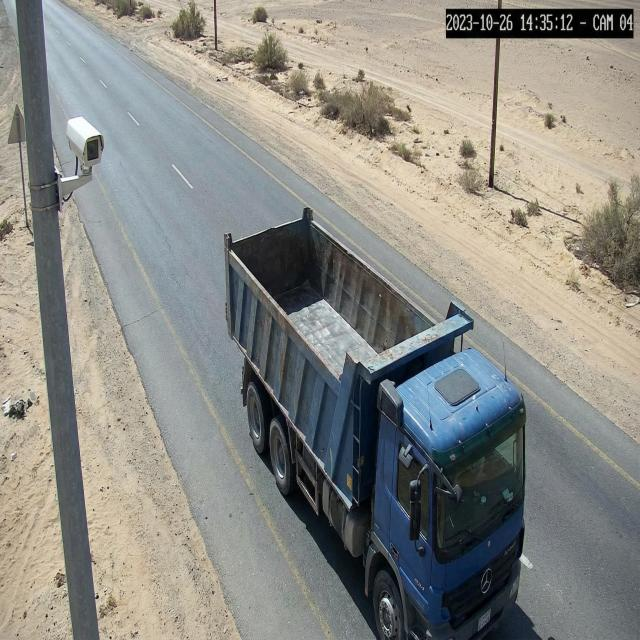Box: (223, 209, 477, 377)
Truck: (215, 170, 533, 634)
